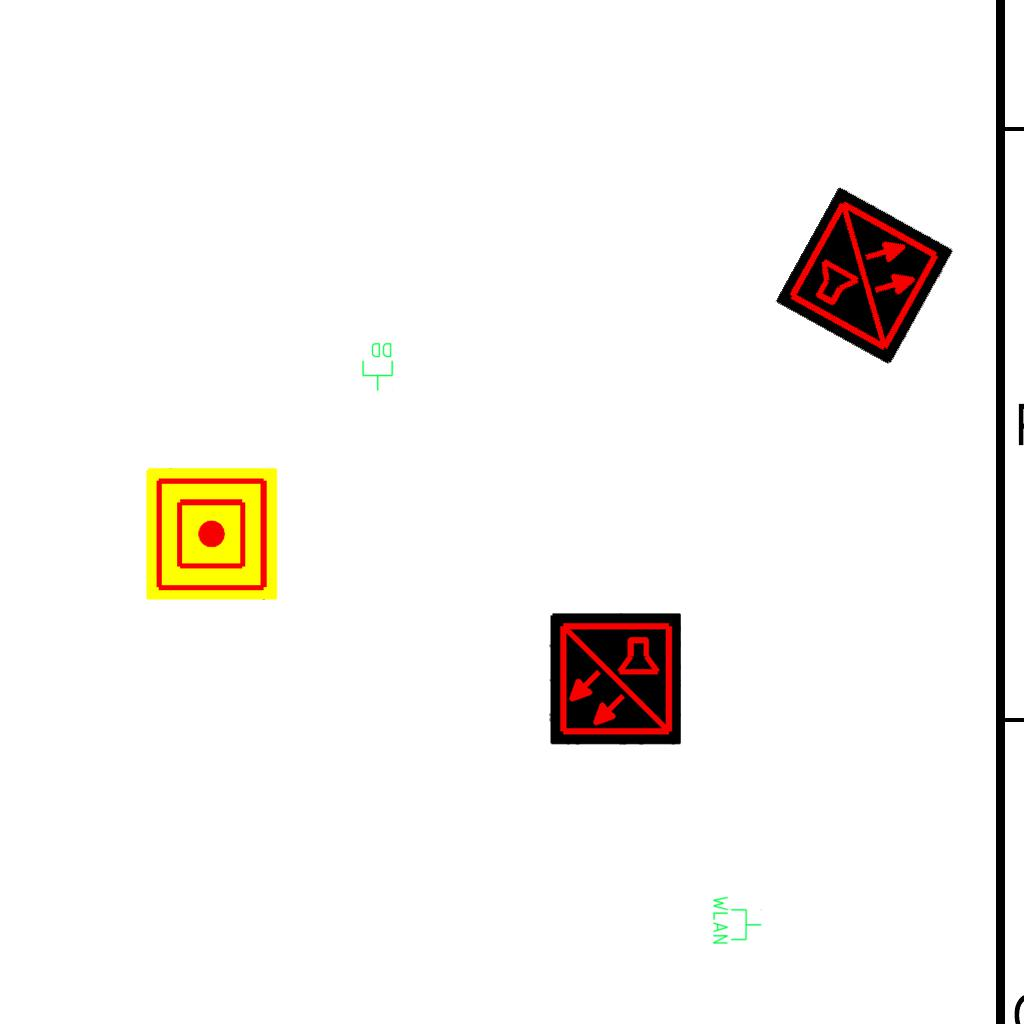Datenanschluss_zweifach: (361, 341, 395, 392)
NAM-Nichtautomatischer_Melder: (146, 468, 278, 600)
OKW_Multisensormelder_(Kombination_optischer_Rauch-Kahlenmonoxid_Waerme-Melder): (775, 186, 955, 366), (549, 613, 681, 745)
WLAN: (711, 894, 763, 946)
